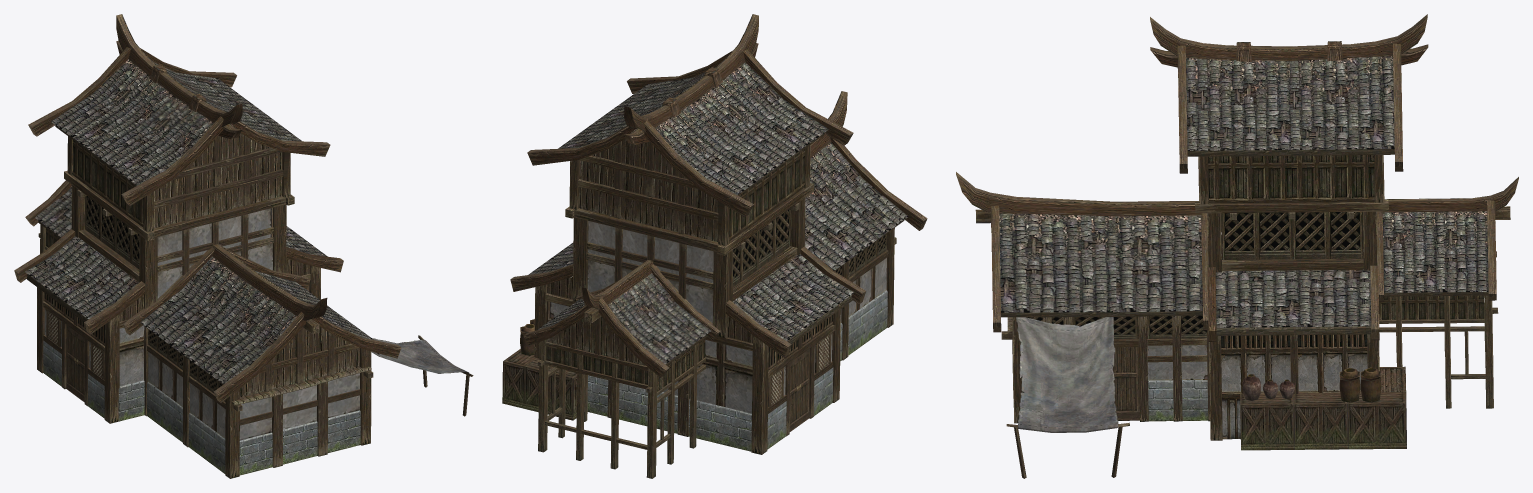
Rendered from wlf_fangzi03_w.FBX.
3 renders of one model, left to right at view 1: azimuth 30°, elevation 25°; view 2: azimuth 150°, elevation 25°; view 3: azimuth 270°, elevation 25°, orthographic. The views are drawn at different scales.
Visible parts, largest first — view 1: wlf_fangzi03_w; view 2: wlf_fangzi03_w; view 3: wlf_fangzi03_w.
Part boxes in pixels (x1,y1,x2,y2): wlf_fangzi03_w: (14, 14, 473, 478); wlf_fangzi03_w: (502, 14, 927, 478); wlf_fangzi03_w: (956, 14, 1518, 478).
Size of the model in its own units: 109 by 110 by 153.
